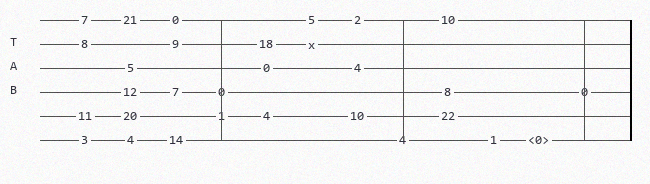0: (172, 14, 183, 26), (218, 86, 229, 98), (263, 62, 274, 74), (581, 86, 592, 98)
1: (218, 110, 229, 122), (490, 134, 501, 146)
10: (350, 110, 368, 122), (441, 14, 459, 26)
11: (78, 110, 96, 122)
12: (123, 86, 141, 98)
14: (169, 134, 187, 146)
18: (259, 38, 277, 50)
2: (354, 14, 365, 26)
20: (123, 110, 141, 122)
21: (123, 14, 141, 26)
22: (441, 110, 459, 122)
3: (81, 134, 92, 146)
4: (127, 134, 138, 146), (263, 110, 274, 122), (354, 62, 365, 74), (399, 134, 410, 146)
5: (127, 62, 138, 74), (308, 14, 319, 26)
7: (81, 14, 92, 26), (172, 86, 183, 98)
8: (81, 38, 92, 50), (444, 86, 455, 98)
9: (172, 38, 183, 50)
harmonic: (528, 134, 553, 146)
x: (308, 39, 319, 49)
